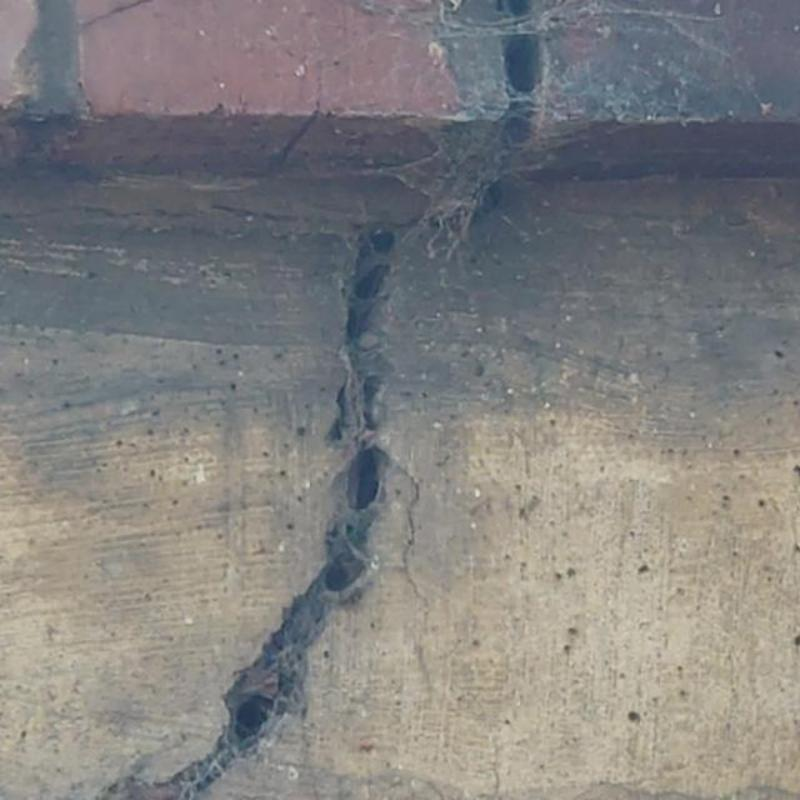pothole: (112, 533, 369, 799), (420, 0, 544, 237), (330, 228, 395, 553), (390, 459, 432, 685), (275, 61, 326, 161), (78, 0, 151, 29)
